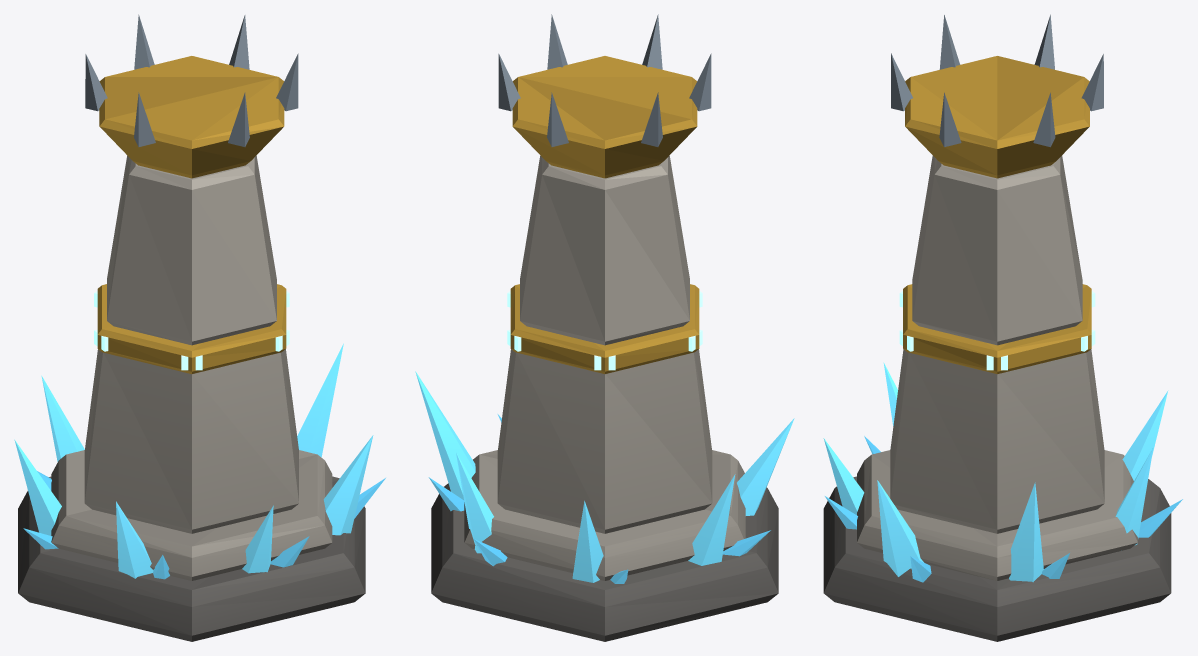
Rendered from frost_tower_2.glb.
3 renders of one model, left to right at view 1: azimuth 30°, elevation 25°; view 2: azimuth 150°, elevation 25°; view 3: azimuth 270°, elevation 25°, orthographic.
Visible parts, largest first — view 1: frost_tower_2; view 2: frost_tower_2; view 3: frost_tower_2.
Part boxes in pixels (left/top/right/bottom): frost_tower_2: left=14, top=14, right=385, bottom=641; frost_tower_2: left=415, top=14, right=794, bottom=641; frost_tower_2: left=823, top=14, right=1182, bottom=641.
Size of the model in its own units: 0.94 by 1.32 by 0.8432.
